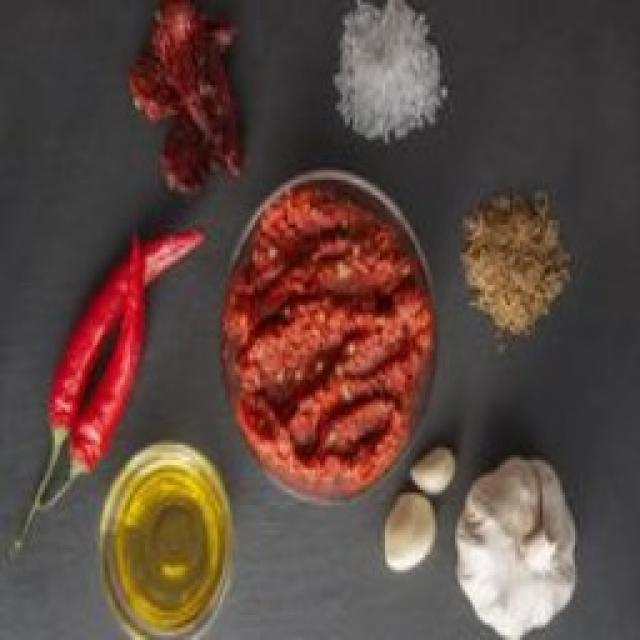Harissa: (218, 165, 438, 505)
